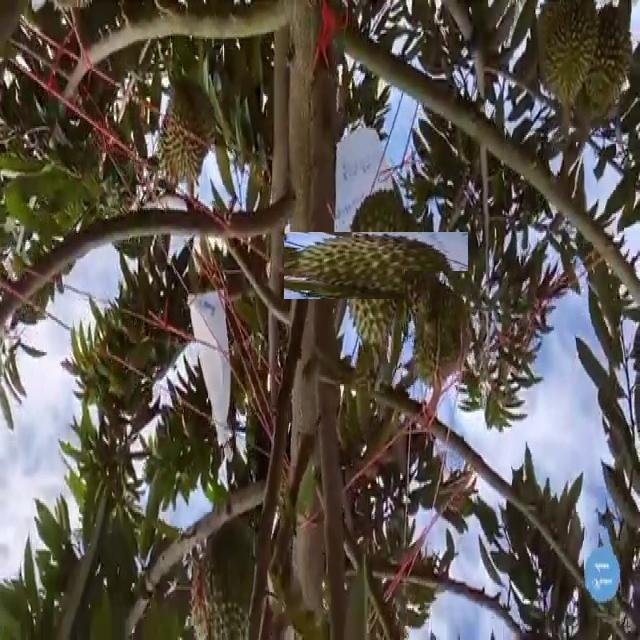durian: (313, 203, 439, 329), (188, 508, 272, 640), (405, 270, 475, 396), (532, 2, 601, 118), (158, 73, 220, 188), (581, 6, 636, 129)
